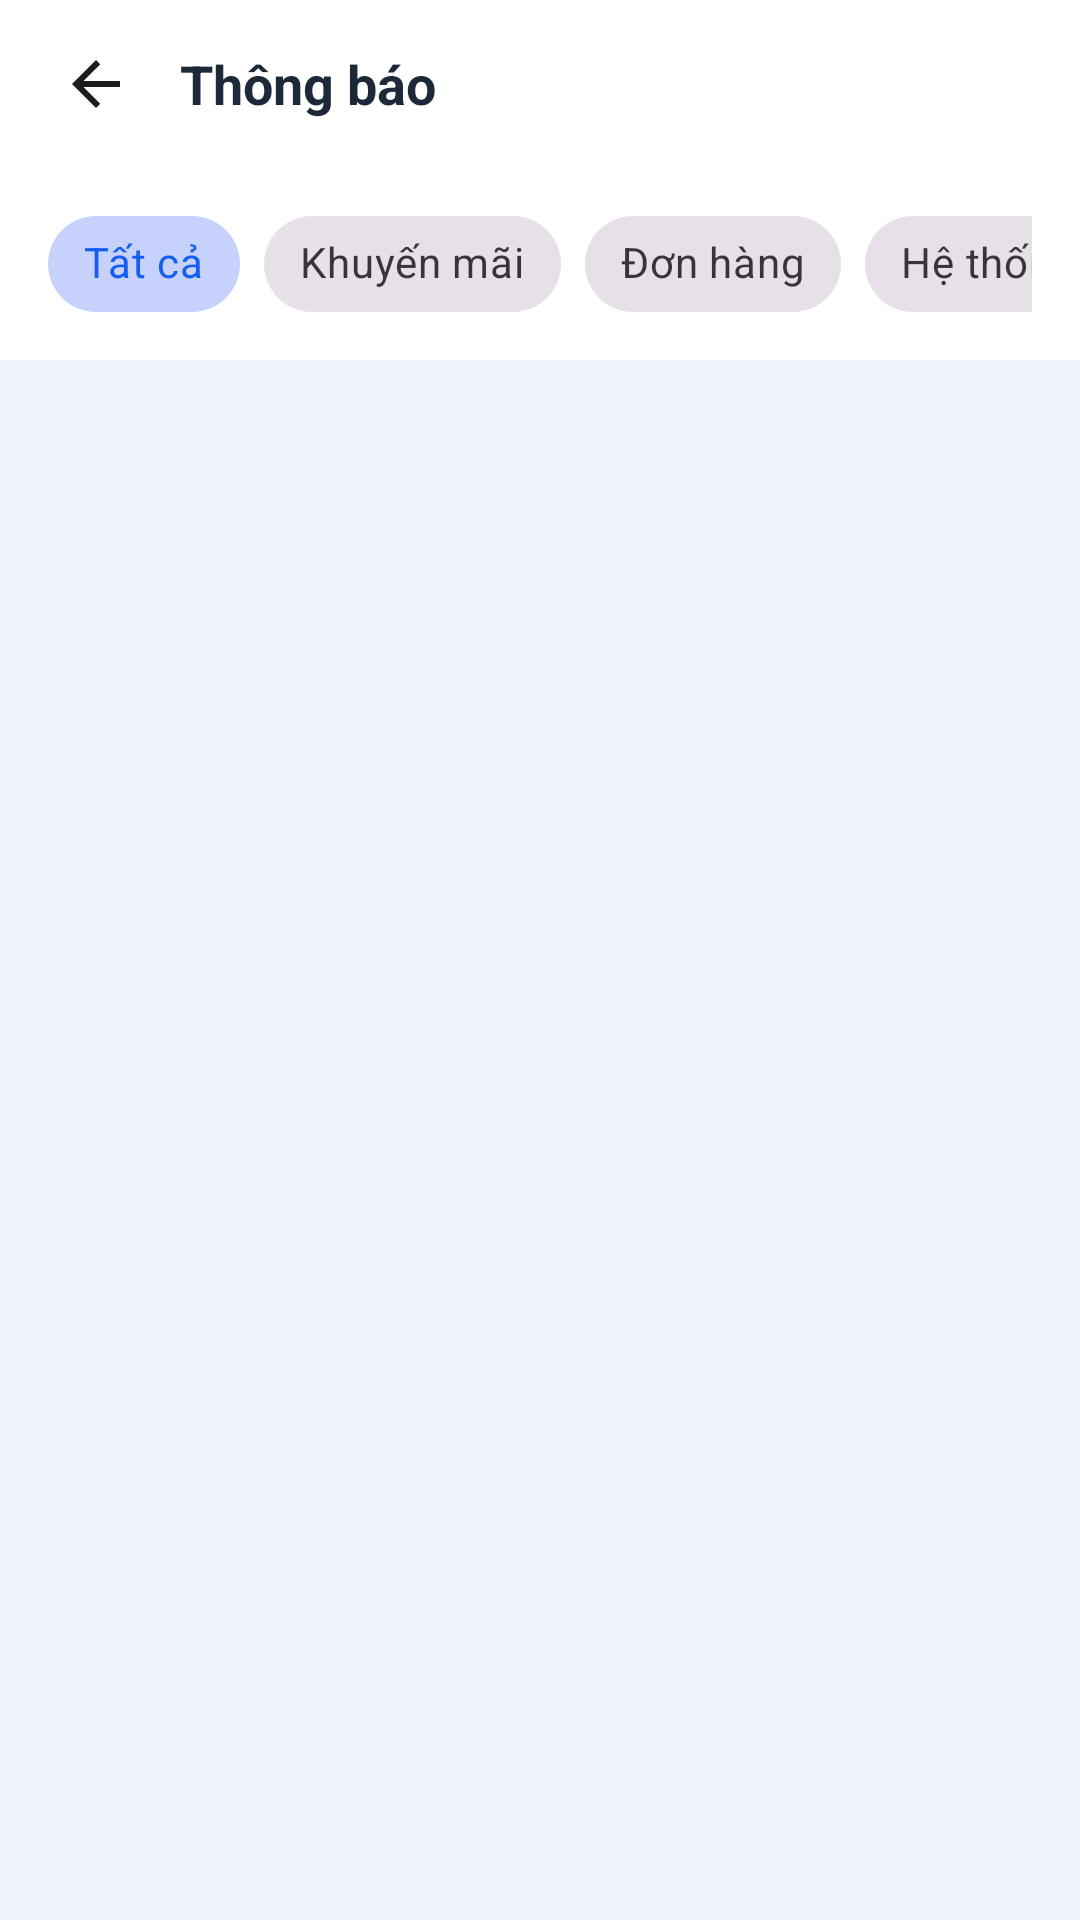

Where icons sit on this 1080*1920 app screen, as (x1, y1, x2, y2):
Back: (72, 60, 120, 108)
